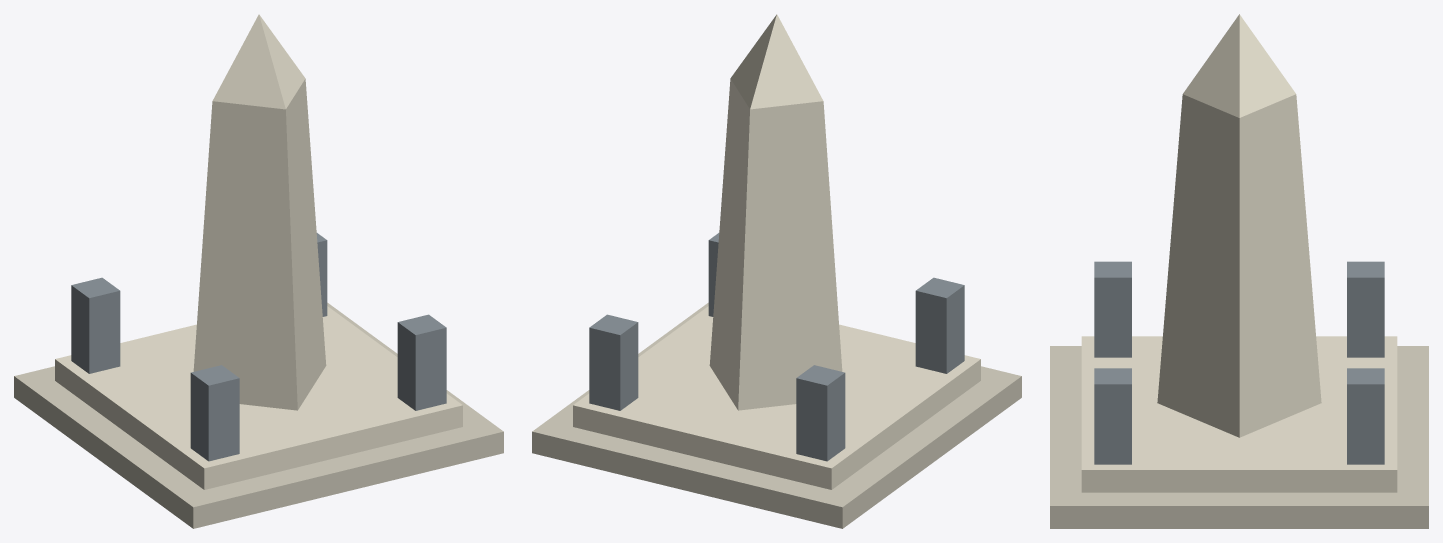
The model's file is research-monument.glb.
3 views of the same model, side by side, from view 1: azimuth 30°, elevation 25°; view 2: azimuth 150°, elevation 25°; view 3: azimuth 270°, elevation 25° (orthographic). The views are drawn at different scales.
Parts seen in each view (by area): view 1: research-monument; view 2: research-monument; view 3: research-monument.
Part boxes in pixels (x1,y1,x2,y2): research-monument: [14, 14, 503, 528]; research-monument: [532, 14, 1021, 528]; research-monument: [1050, 14, 1428, 528].
Bounding box in the file's own units: 3 × 3.8 × 3.
